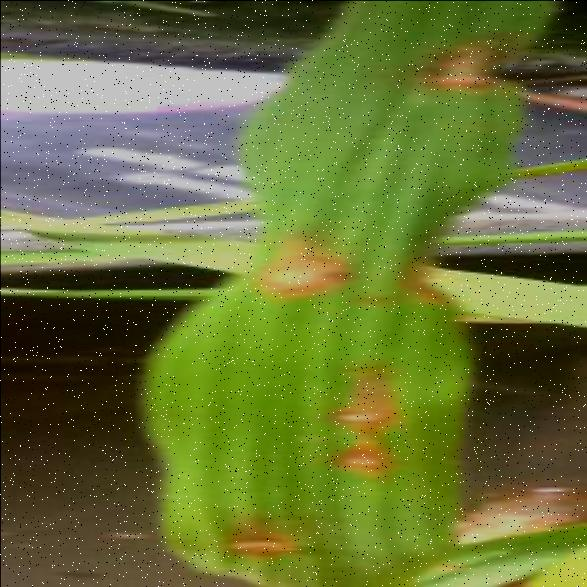Leaf_smut: (170, 464, 326, 576), (233, 213, 364, 315), (297, 350, 419, 439), (412, 30, 516, 115), (313, 433, 401, 489)
